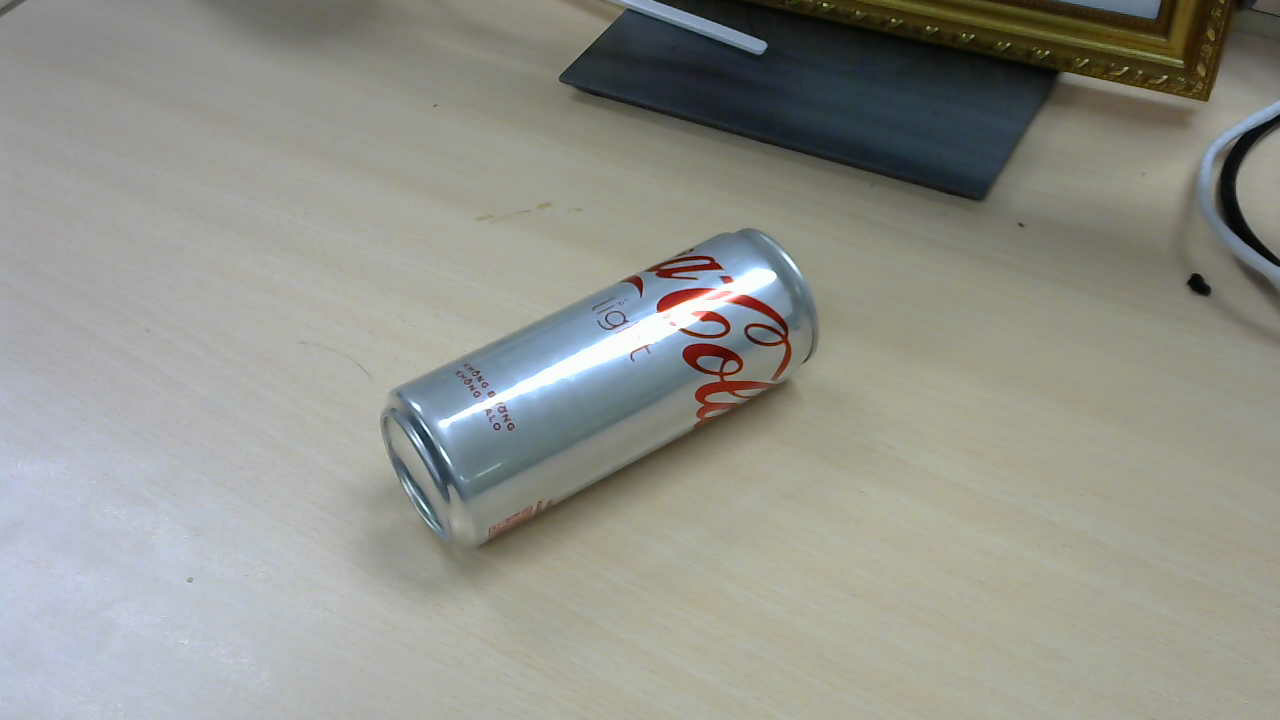Coca_Cola: (382, 227, 825, 556)
